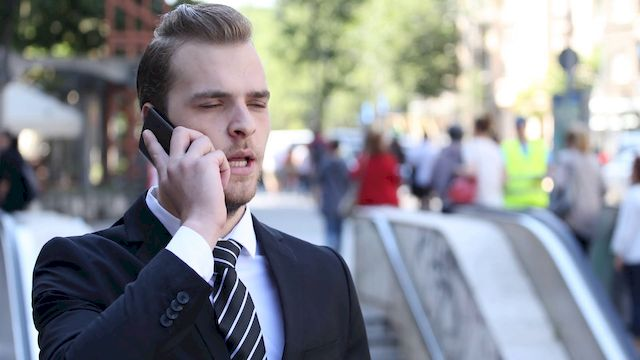phone: (135, 111, 189, 177)
talk: (129, 82, 271, 236)
